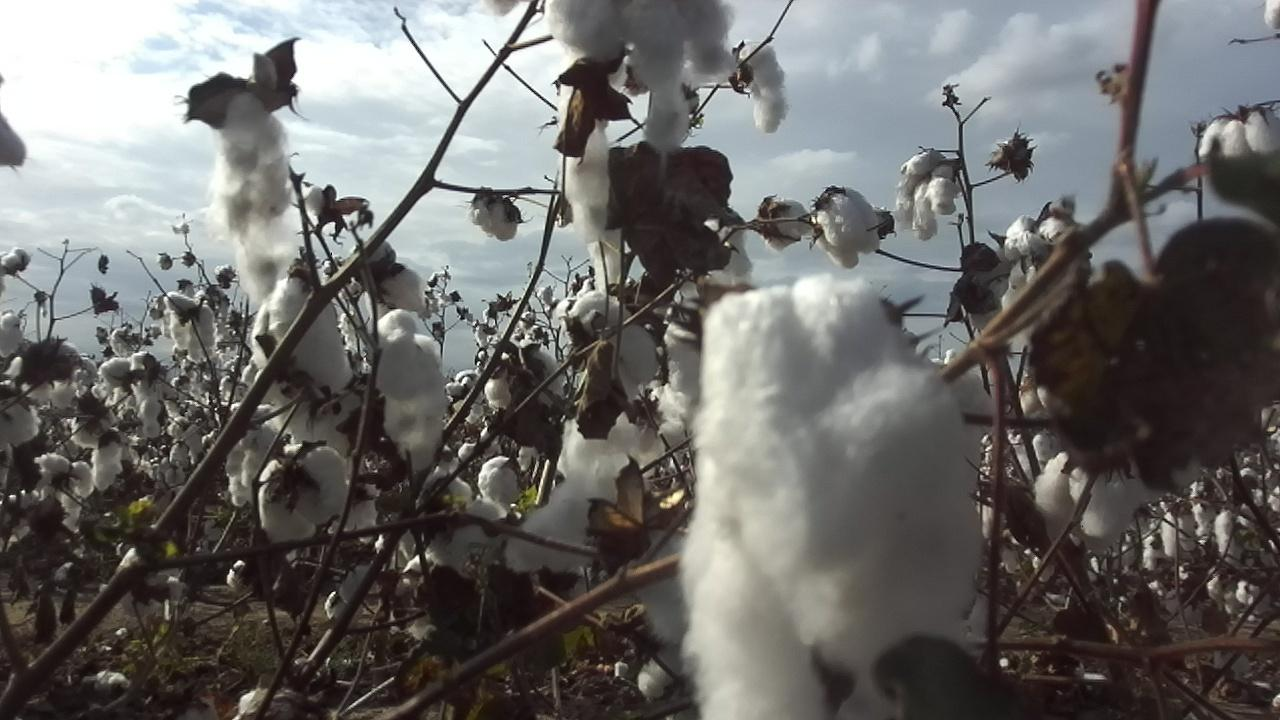cotton_ready: (680, 274, 985, 720), (547, 0, 739, 152), (507, 409, 665, 575), (209, 90, 294, 299), (1032, 445, 1190, 555), (251, 277, 352, 442), (368, 310, 450, 478), (559, 66, 635, 247), (552, 294, 664, 405), (259, 442, 352, 545), (997, 212, 1085, 313), (674, 212, 759, 305), (331, 242, 427, 314), (485, 340, 567, 414), (650, 320, 699, 443), (222, 402, 280, 505), (894, 149, 960, 238), (817, 189, 884, 273), (424, 505, 509, 569), (3, 344, 87, 405), (1200, 110, 1280, 163), (35, 455, 94, 514), (765, 199, 810, 251), (0, 390, 40, 447), (0, 111, 29, 170)
